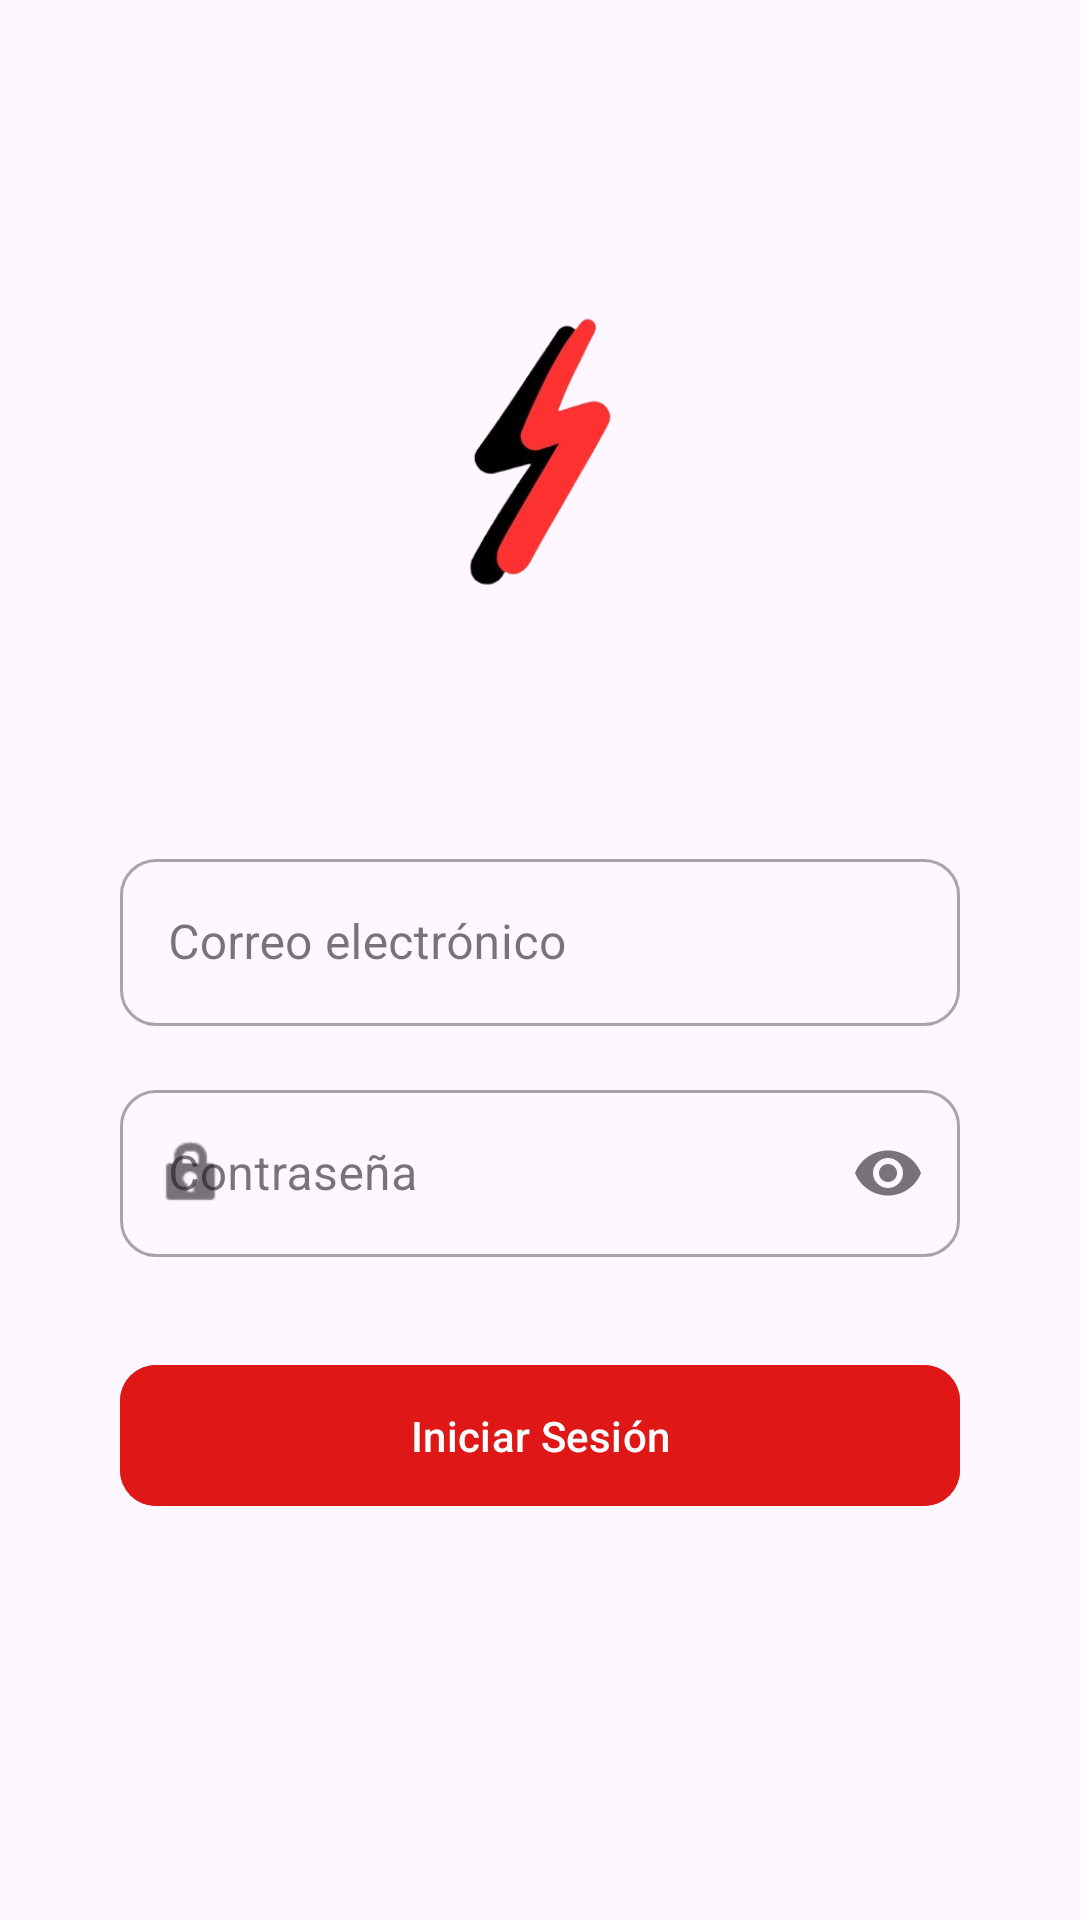

Where to tap for icons on this 1080px x 1920px app screen, as (x,y):
rayitoimpulse: (540,452)
